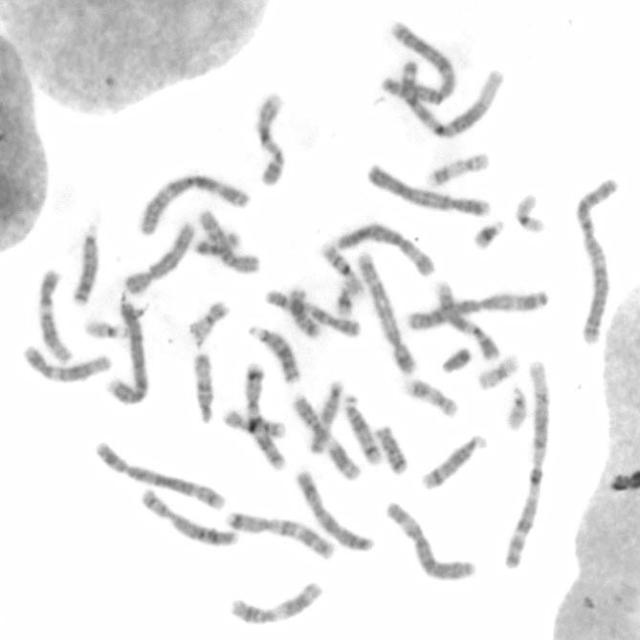A1: (498, 354, 552, 572), (394, 55, 503, 141)
A2: (571, 172, 618, 346), (377, 16, 457, 105)
A3: (134, 170, 252, 238), (402, 284, 553, 332)
B4: (362, 159, 492, 218), (102, 294, 152, 406)
B5: (91, 439, 226, 511), (353, 244, 418, 377)
C10: (261, 283, 364, 339), (194, 204, 261, 275)
C11: (287, 391, 363, 481), (226, 577, 324, 626)
C12: (18, 340, 113, 384), (34, 263, 74, 365)
C6: (381, 497, 478, 582), (332, 217, 437, 278)
C7: (222, 506, 338, 562), (240, 357, 289, 472)
C8: (137, 484, 239, 548), (120, 216, 198, 295)
C9: (432, 276, 503, 362), (251, 87, 289, 189)
D13: (243, 319, 303, 386), (68, 219, 102, 306)
D14: (417, 431, 489, 491), (340, 391, 382, 466)
D15: (305, 375, 346, 455), (190, 349, 217, 425)
E16: (316, 237, 364, 297), (217, 403, 289, 440)
E17: (420, 147, 493, 188), (401, 374, 459, 419)
E18: (372, 419, 411, 477), (284, 288, 322, 343)
F19: (472, 349, 522, 392), (511, 188, 547, 234)
F20: (184, 296, 232, 342), (191, 227, 240, 256)
G21: (467, 215, 506, 251), (331, 282, 356, 318)
G22: (80, 314, 131, 342), (501, 381, 529, 431)
X: (291, 464, 377, 555)
Y: (437, 344, 473, 374)
